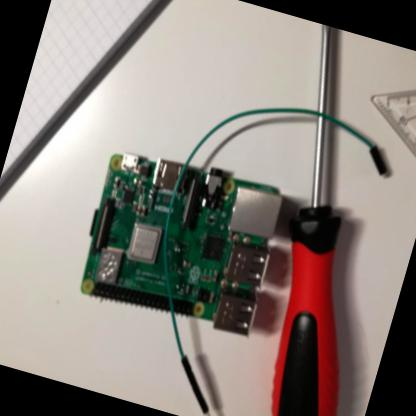Raspberry_Pi_3: (67, 135, 296, 351)
